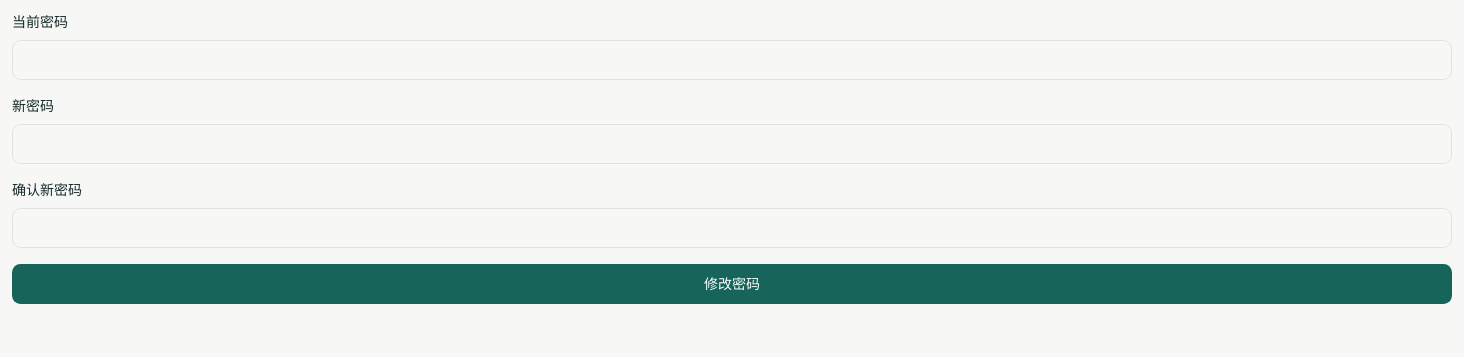
Scenario: change password form › keeps the form open and explains when automatic sign-out fails
Type "old-password" into the password field labelled "当前密码" at (732, 60), box x1=12 y1=40 x2=1452 y2=80
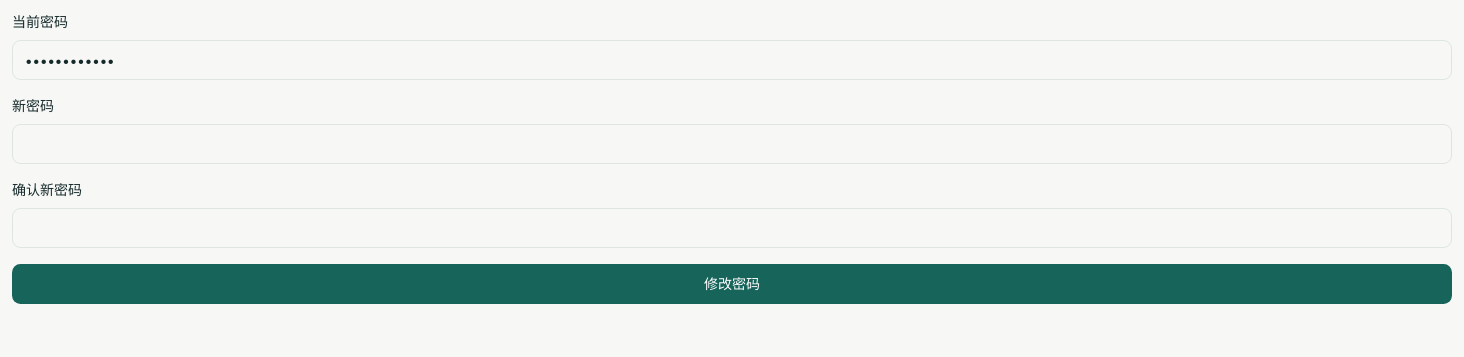
Type "new-password-123" into the password field labelled "新密码" at (732, 144), box x1=12 y1=124 x2=1452 y2=164
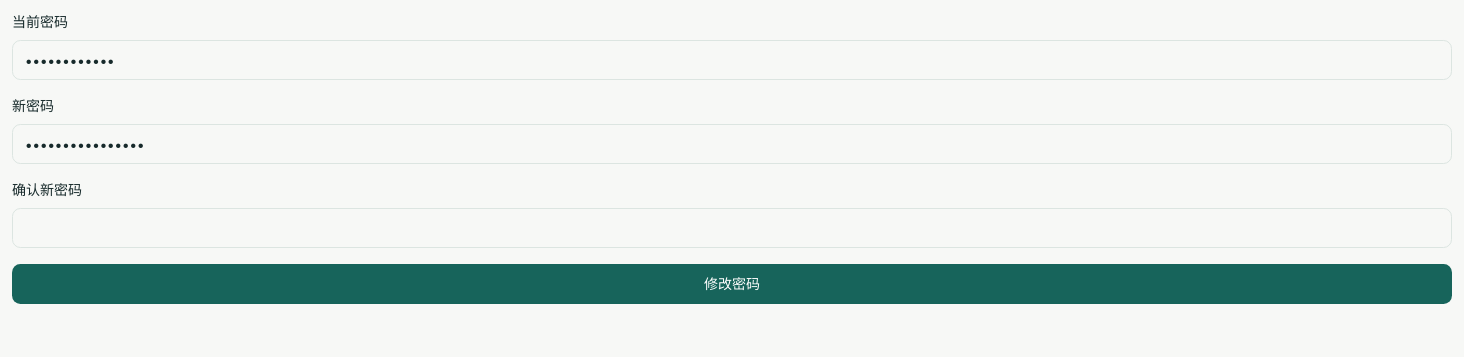
Type "new-password-123" into the password field labelled "确认新密码" at (732, 228), box x1=12 y1=208 x2=1452 y2=248
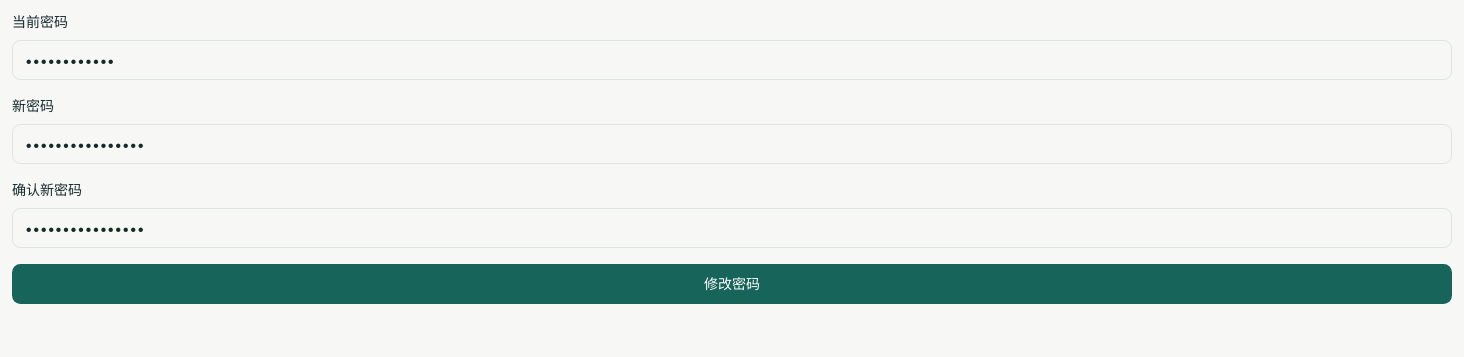
Submit the form "修改密码"
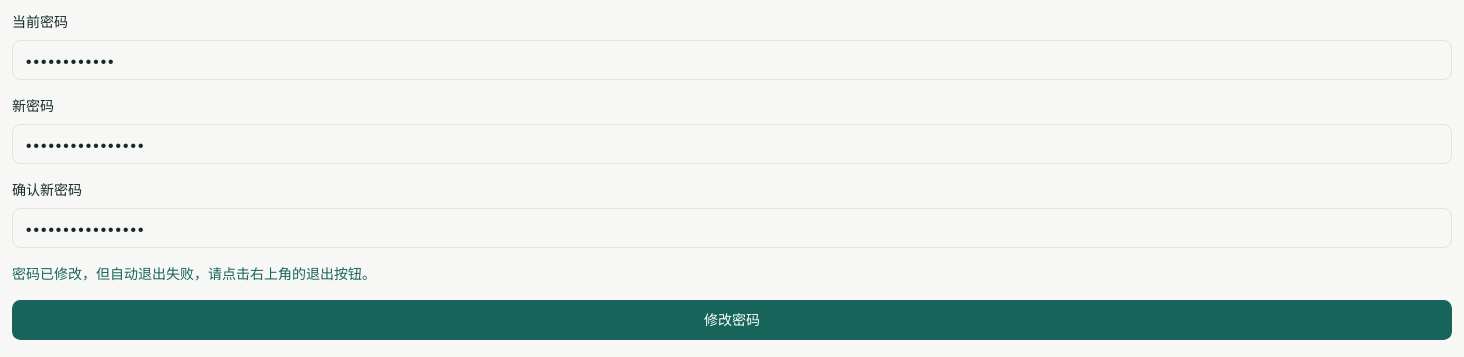
Result: the message shows "自动退出失败" at x1=12 y1=265 x2=376 y2=282
